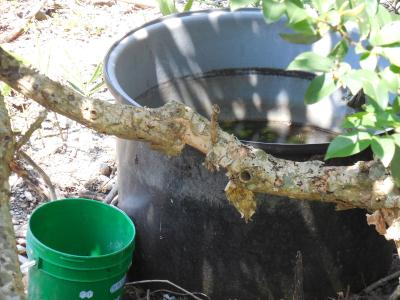bucket: (98, 6, 400, 297), (19, 192, 138, 300)
